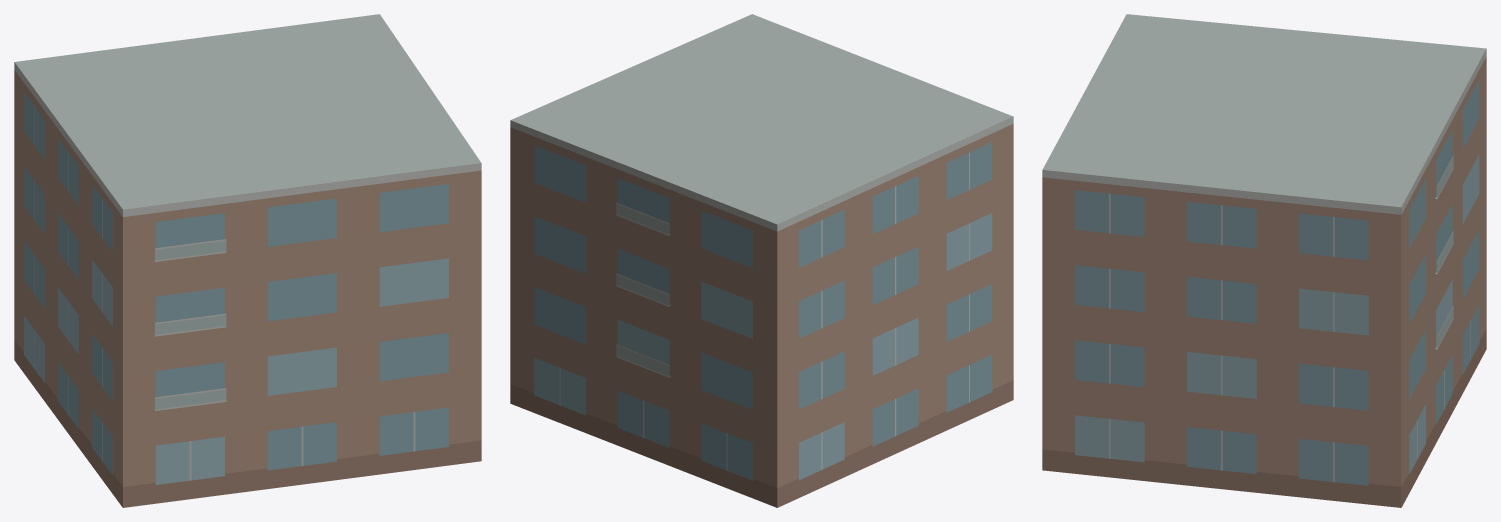
The model's file is survey-upis-32595781.glb.
The picture shows the model from 3 angles, left to right: view 1: azimuth 30°, elevation 25°; view 2: azimuth 150°, elevation 25°; view 3: azimuth 270°, elevation 25°; orthographic projection. The views are drawn at different scales.
Parts seen in each view (by area): view 1: survey-upis-32595781.tmp; view 2: survey-upis-32595781.tmp; view 3: survey-upis-32595781.tmp.
Boxes of the visible parts, bbox=[...] form: survey-upis-32595781.tmp: bbox=[14, 14, 481, 507]; survey-upis-32595781.tmp: bbox=[510, 14, 1013, 507]; survey-upis-32595781.tmp: bbox=[1042, 14, 1486, 507].
Size of the model in its own units: 13.54 by 9.8 by 13.14.
